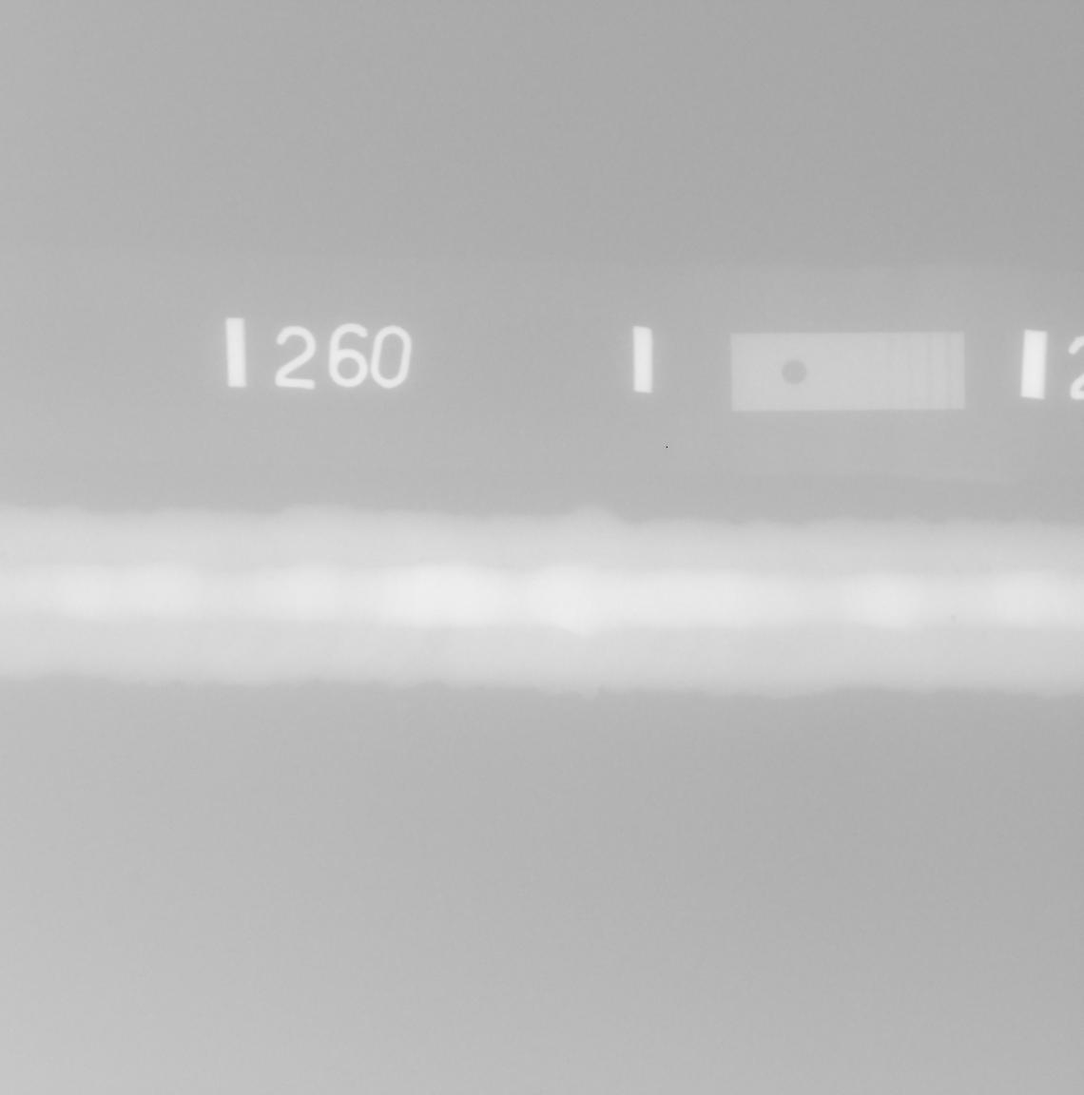Inclusion: (419, 558, 426, 562)
Pore/Porosity: (951, 616, 956, 622), (1, 553, 6, 557)
Reference Standard 1: (730, 331, 965, 411)
